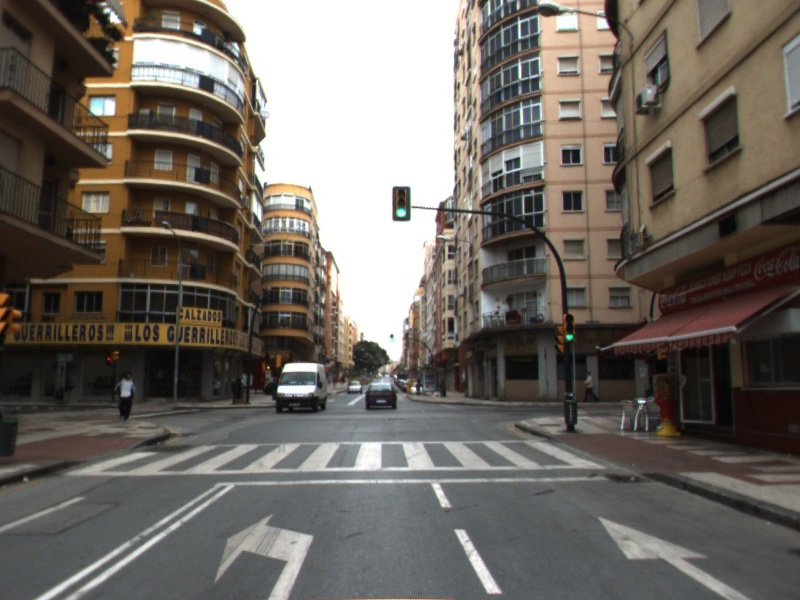LEFT: (213, 512, 316, 600)
STRAIGHT: (596, 515, 753, 600)
